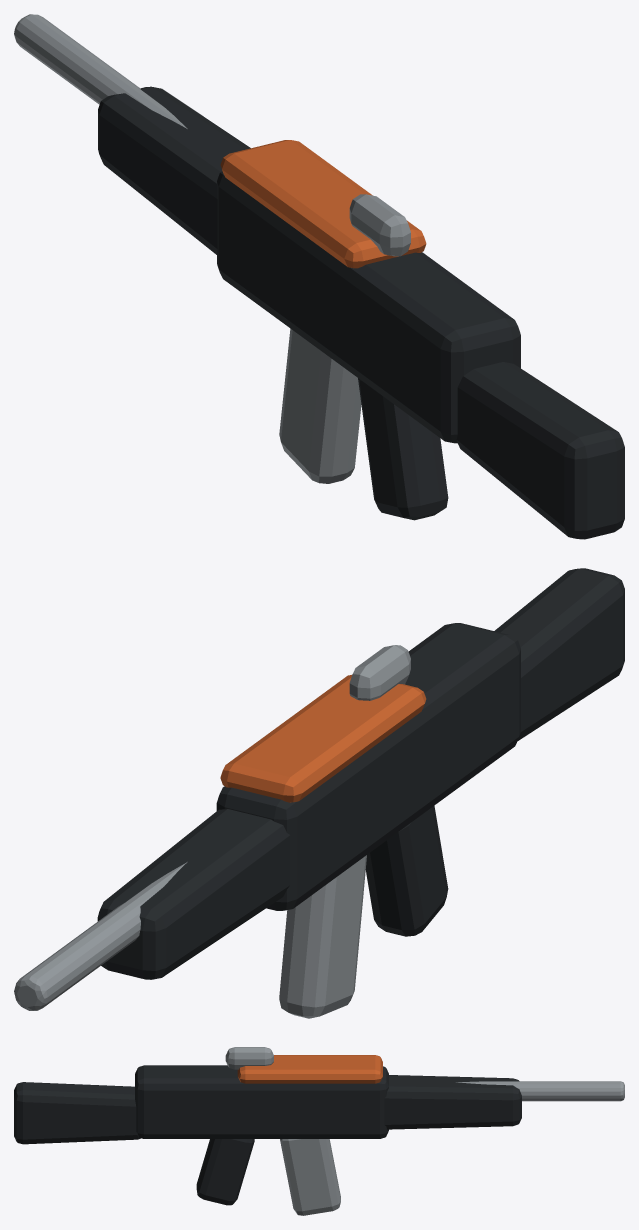
The model's file is rifle.glb.
The picture shows the model from 3 angles, top to bottom: view 1: azimuth 30°, elevation 25°; view 2: azimuth 150°, elevation 25°; view 3: azimuth 270°, elevation 25°; orthographic projection. The views are drawn at different scales.
Visible parts, largest first — view 1: receiver, stock, handguard, stripe, mag, grip, barrel, sight; view 2: receiver, handguard, stock, stripe, mag, grip, barrel, sight; view 3: receiver, stock, handguard, stripe, mag, grip, barrel, sight.
Boxes of the visible parts, x1,y1,x2,y2 form: receiver: (217,171,520,443); stock: (456,362,624,539); handguard: (98,86,250,254); stripe: (220,140,426,268); mag: (279,328,361,483); grip: (358,378,448,520); barrel: (14,14,187,128); sight: (349,194,410,256); receiver: (216,623,520,910); handguard: (97,809,290,979); stock: (494,568,624,740); stripe: (220,675,426,802); mag: (279,855,366,1018); grip: (365,805,448,936); barrel: (14,862,187,1010); sight: (349,645,410,700); receiver: (135,1065,388,1138); stock: (14,1082,140,1144); handguard: (384,1075,521,1129); stripe: (237,1055,382,1083); mag: (280,1139,340,1215); grip: (196,1139,254,1205); barrel: (456,1081,624,1101); sight: (225,1047,273,1069).
Bounding box in the file's own units: 0.082 × 0.3031 × 1.01.
